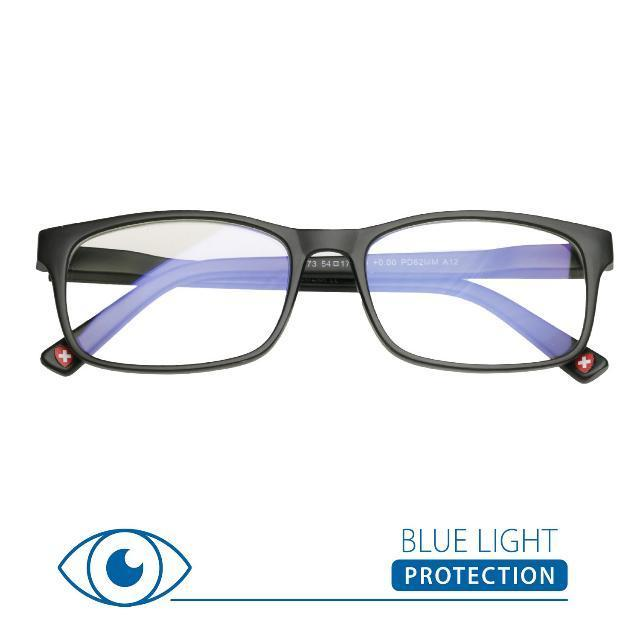mask: (29, 211, 618, 385)
